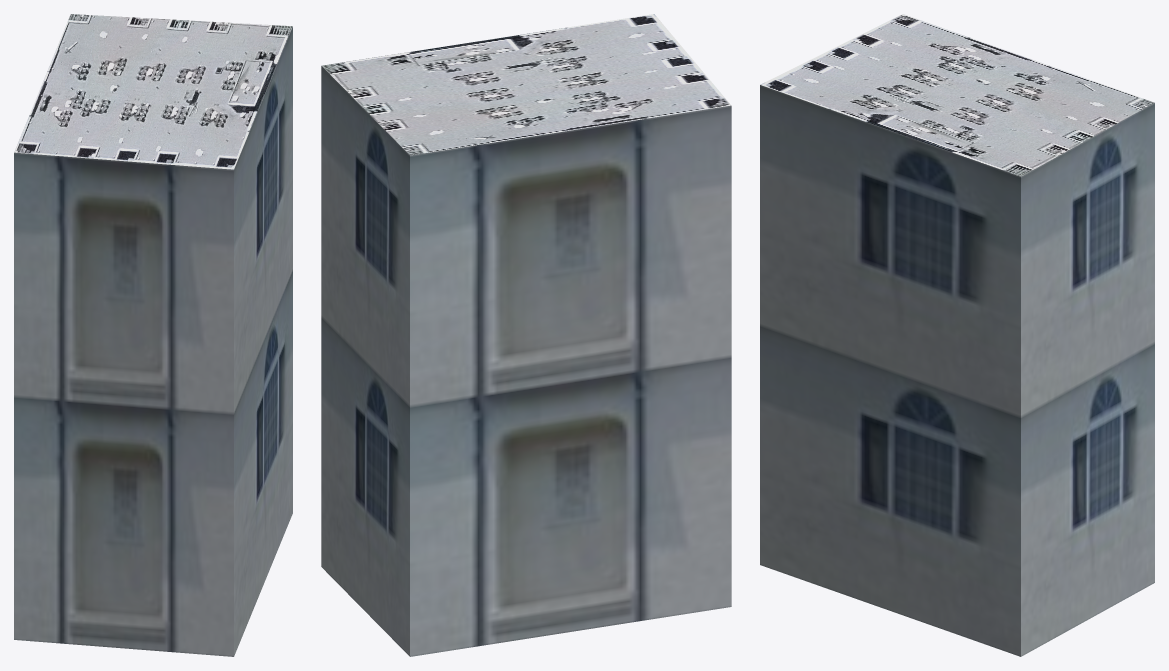
The model's file is ResTex__1246.fbx.
The picture shows the model from 3 angles, left to right: view 1: azimuth 30°, elevation 25°; view 2: azimuth 150°, elevation 25°; view 3: azimuth 270°, elevation 25°; orthographic projection. The views are drawn at different scales.
Parts seen in each view (by area): view 1: CityEngineMaterial_17_m, CityEngineMaterial_4_m; view 2: CityEngineMaterial_17_m, CityEngineMaterial_4_m; view 3: CityEngineMaterial_17_m, CityEngineMaterial_4_m.
Boxes of the visible parts, x1,y1,x2,y2 form: CityEngineMaterial_17_m: (14, 26, 292, 656); CityEngineMaterial_4_m: (14, 14, 292, 169); CityEngineMaterial_17_m: (321, 66, 731, 656); CityEngineMaterial_4_m: (322, 14, 731, 155); CityEngineMaterial_17_m: (760, 85, 1154, 656); CityEngineMaterial_4_m: (760, 14, 1154, 176).
Size of the model in its own units: 4.36 by 6 by 4.47.
2 materials, 2 textured.
